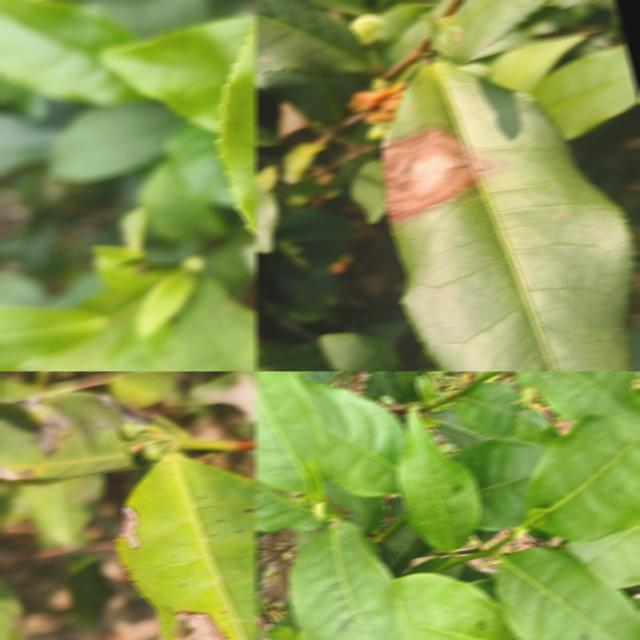Leaf: (382, 62, 635, 371), (116, 451, 257, 640), (101, 15, 254, 132), (0, 0, 142, 105), (526, 415, 640, 540), (288, 519, 403, 640), (493, 546, 640, 640), (396, 407, 481, 554), (302, 380, 407, 496), (0, 392, 135, 481), (49, 100, 184, 181), (530, 44, 640, 139), (450, 438, 545, 530), (393, 572, 521, 640), (255, 0, 369, 75), (168, 275, 257, 371), (255, 371, 326, 491), (0, 303, 108, 370), (138, 160, 227, 240), (516, 371, 640, 425), (453, 382, 558, 444), (21, 473, 106, 546), (450, 0, 551, 61), (488, 33, 587, 92), (255, 70, 362, 124), (567, 525, 640, 587), (135, 268, 197, 336), (100, 325, 183, 371), (255, 478, 324, 532), (0, 113, 55, 177), (66, 555, 115, 626), (191, 371, 257, 422), (317, 331, 400, 371), (378, 520, 427, 576), (349, 157, 387, 223), (255, 341, 330, 371), (420, 13, 462, 56), (255, 189, 279, 253), (368, 371, 411, 404), (395, 371, 427, 401), (310, 0, 368, 14), (626, 324, 640, 371), (266, 625, 300, 640), (255, 595, 267, 615)
